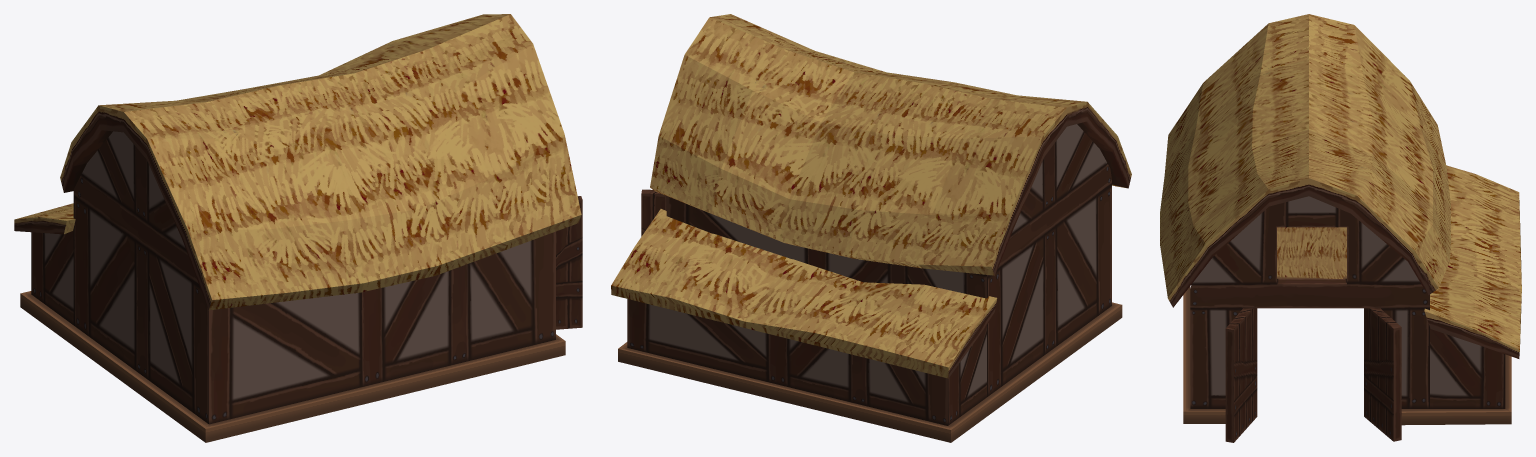
Rendered from StorageExport.fbx.
3 views of the same model, side by side, from view 1: azimuth 30°, elevation 25°; view 2: azimuth 150°, elevation 25°; view 3: azimuth 270°, elevation 25° (orthographic). The views are drawn at different scales.
Parts seen in each view (by area): view 1: Cube.002, Cube.003; view 2: Cube.002, Cube.003; view 3: Cube.002, Cube.003.
Part boxes in pixels (x1,y1,x2,y2): Cube.002: (14, 14, 581, 310); Cube.003: (20, 131, 582, 442); Cube.002: (611, 14, 1131, 378); Cube.003: (618, 124, 1122, 442); Cube.002: (1160, 14, 1521, 358); Cube.003: (1183, 196, 1511, 442).
Bounding box in the file's own units: 641 × 421 × 546.
Materials: 2 (2 with a texture image).
